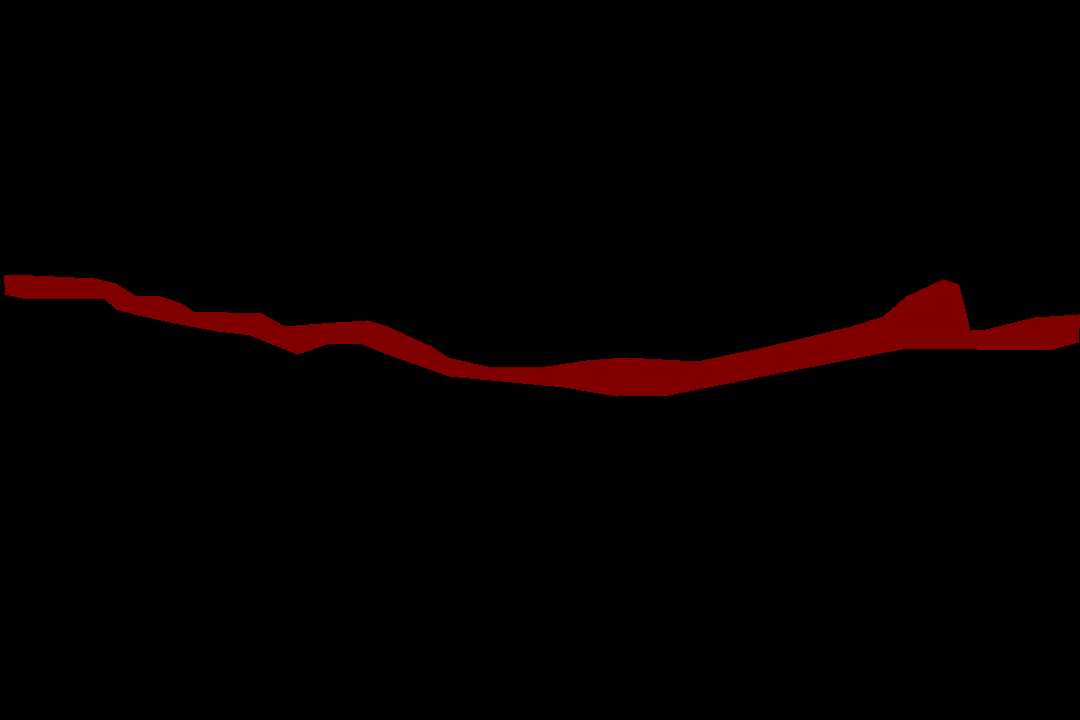fire: (4, 275, 1079, 396)
